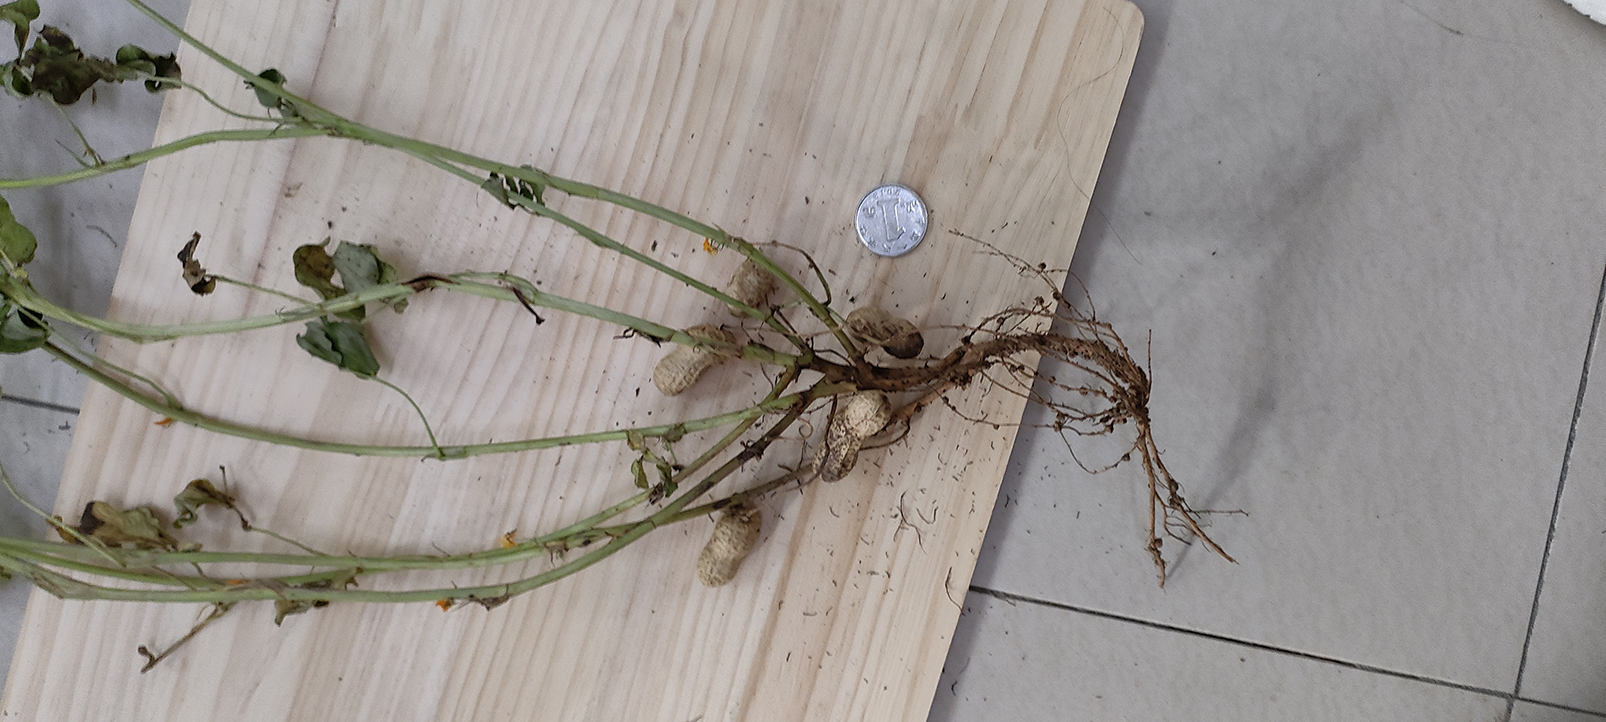h: (813, 389, 892, 483), (653, 326, 737, 395), (694, 500, 760, 589), (725, 260, 777, 315)
l: (847, 307, 925, 358)
